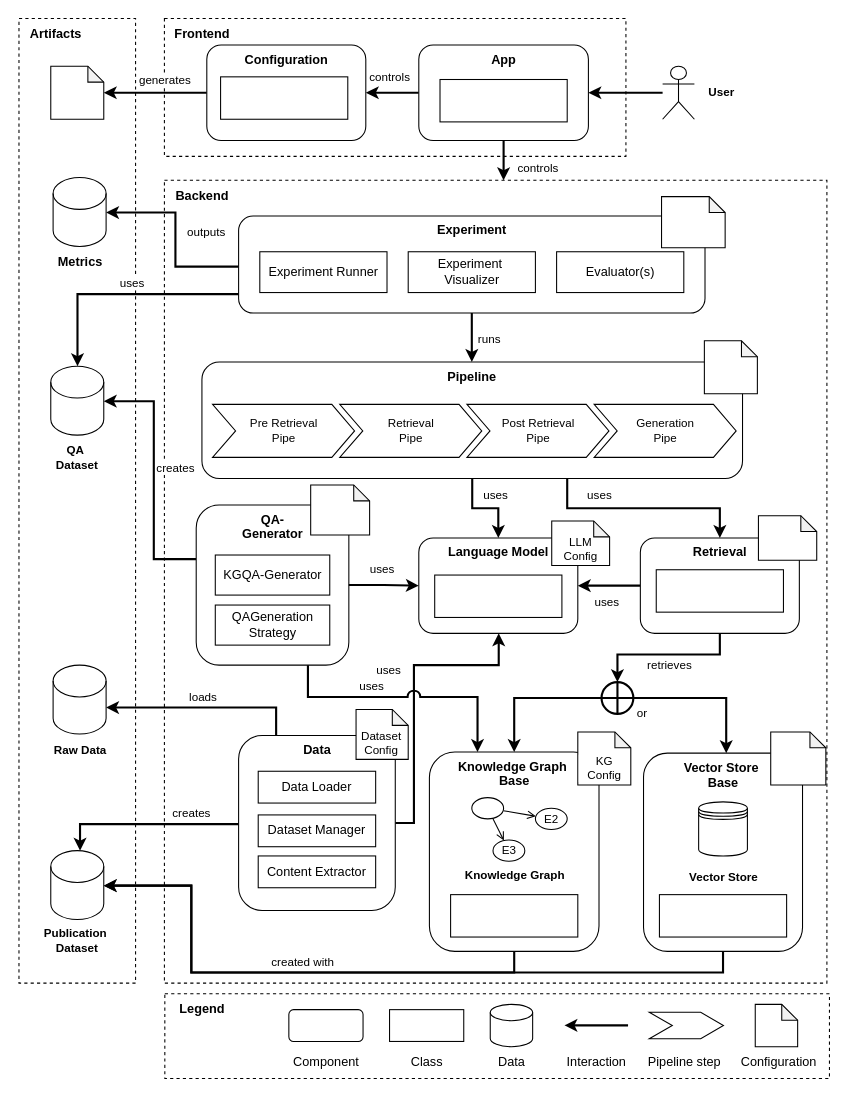
The diagram is 848 pixels wide and 1097 high, and some of its shapes have lost their labels. Each missing label, with the centre of its shape:
"CLI Controller" goes at point 503,100.
"Config" goes at point 77,92.
"Configuration Manager" goes at point 284,97.
"E1" goes at point 487,808.
"Experiment Config" goes at point 692,222.
"Knowledge Graph Manager" goes at point 514,915.
"LLM Provider" goes at point 498,595.
"Pipeline Config" goes at point 730,367.
"QA Generation Config" goes at point 340,509.
"Retrieval Config" goes at point 787,537.
"Retriever" goes at point 719,590.
"Vec Config" goes at point 798,758.
"Vector Store Manager" goes at point 722,915.
